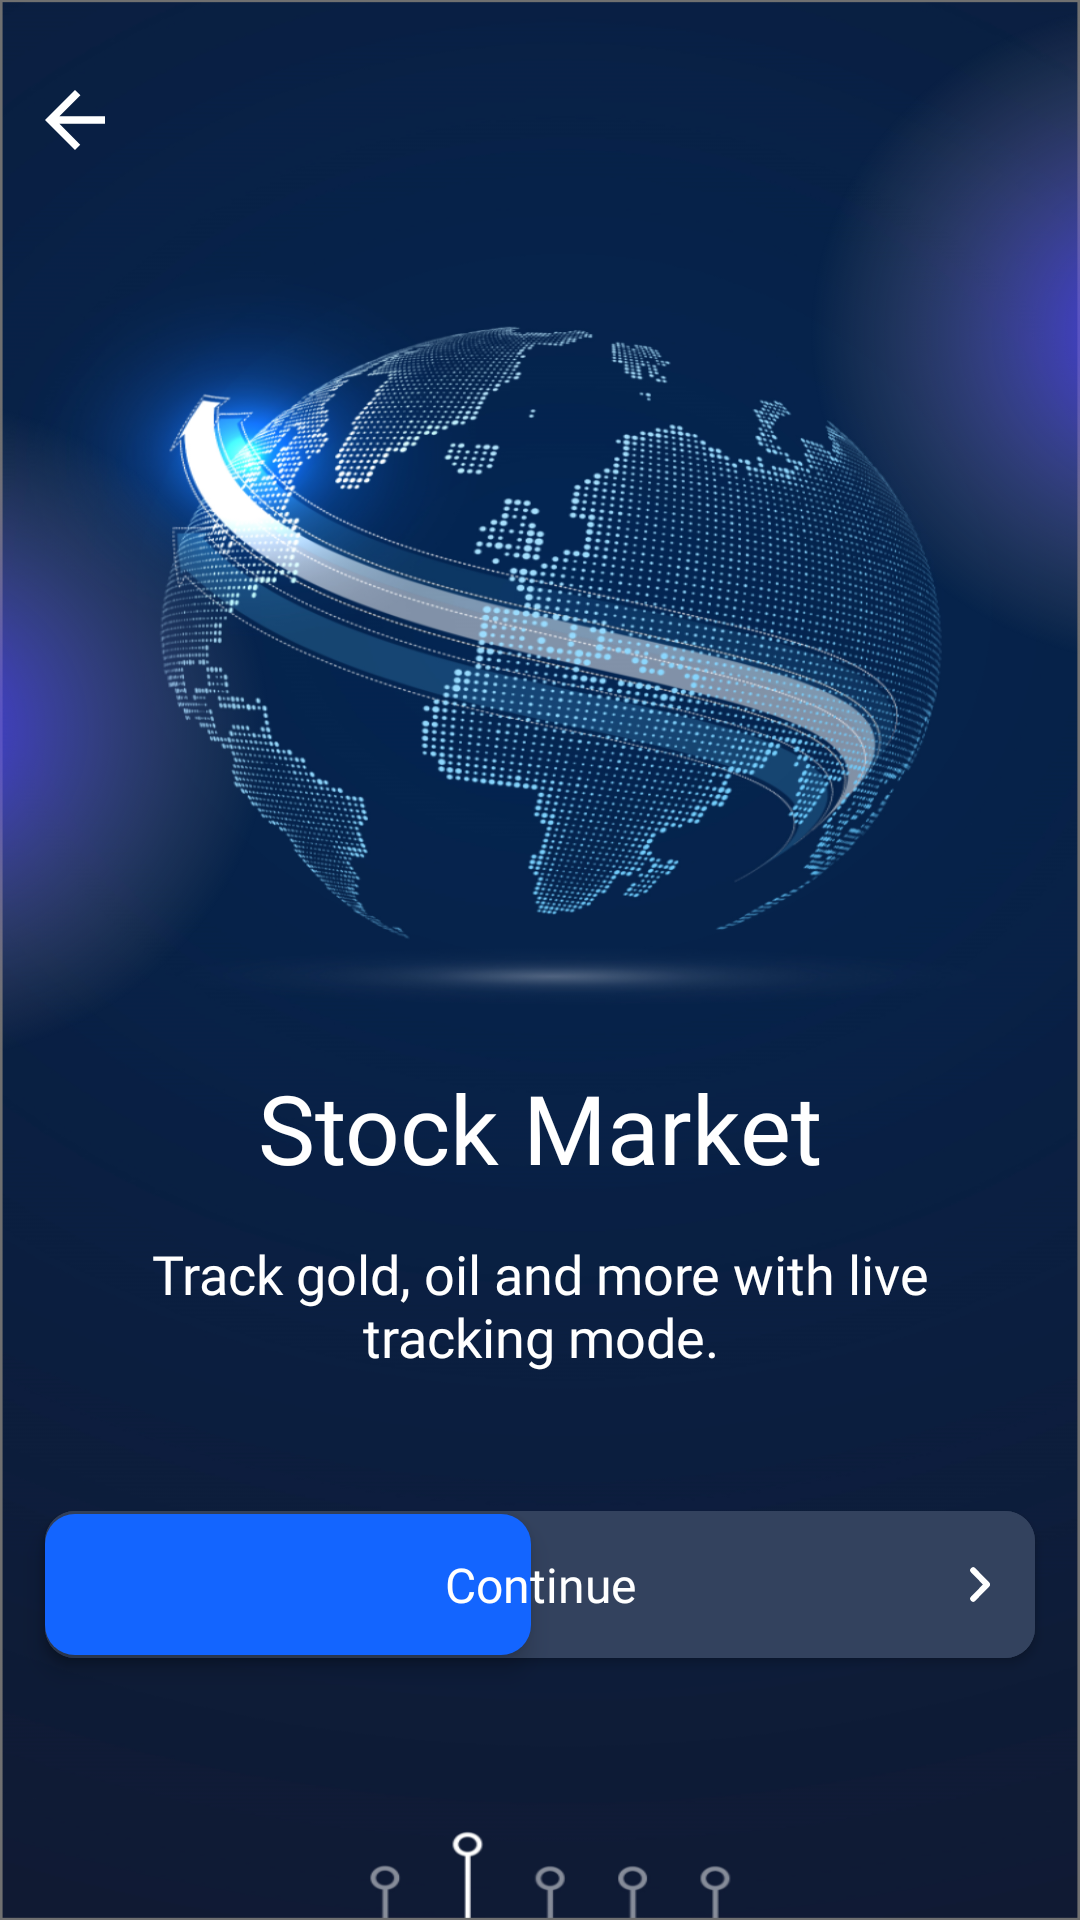

Icon click points for this 1080*1920 phone screenshot, format point (x, y):
arrow back: point (75, 120)
